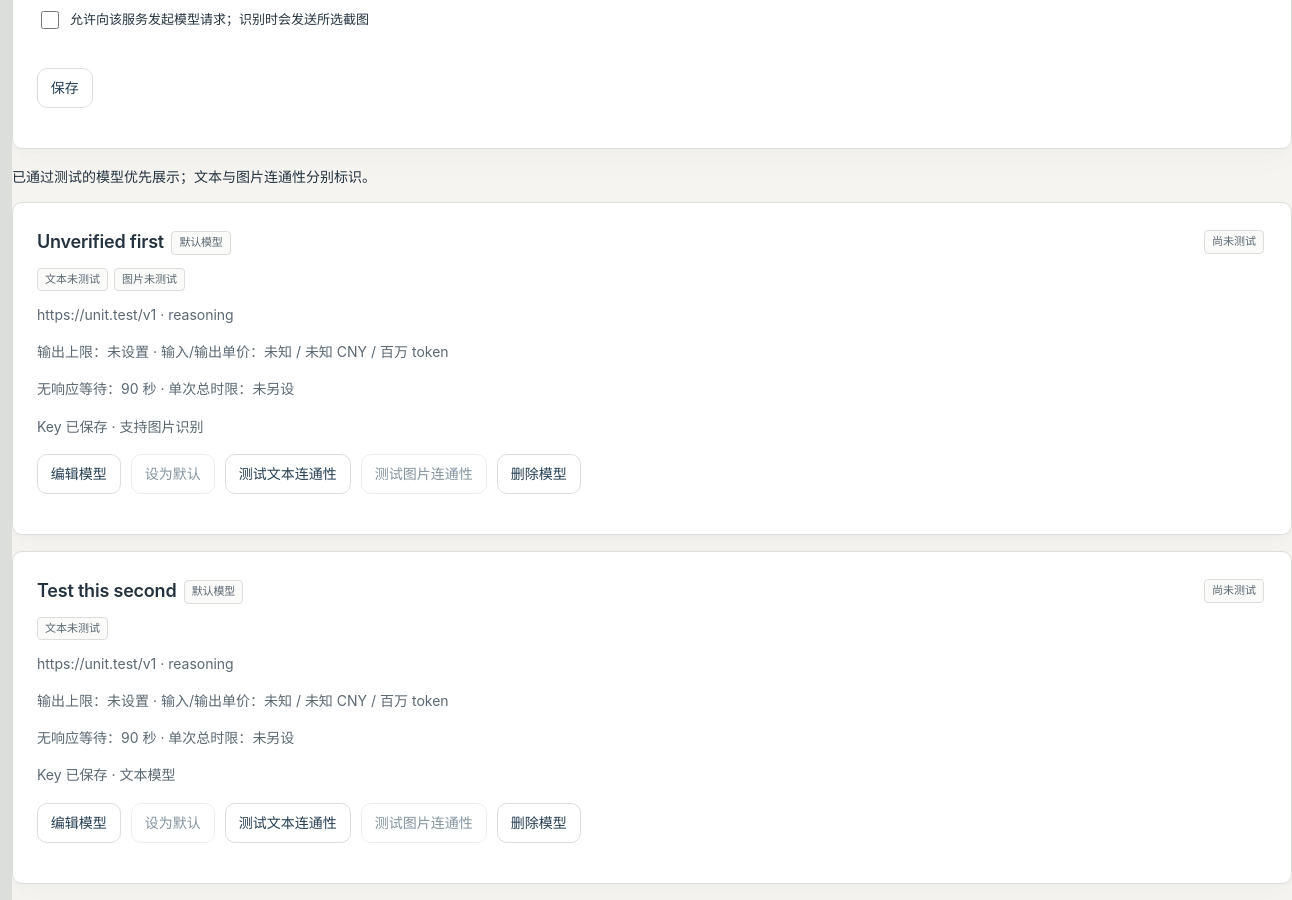
Scenario: moves a newly passed model forward and removes its pass label after a failed retest
This screenshot has width=1292, height=900.
(page scrolled)
Click the button "测试文本连通性" below "文本模型": (288, 822) left=225, top=802, right=351, bottom=842
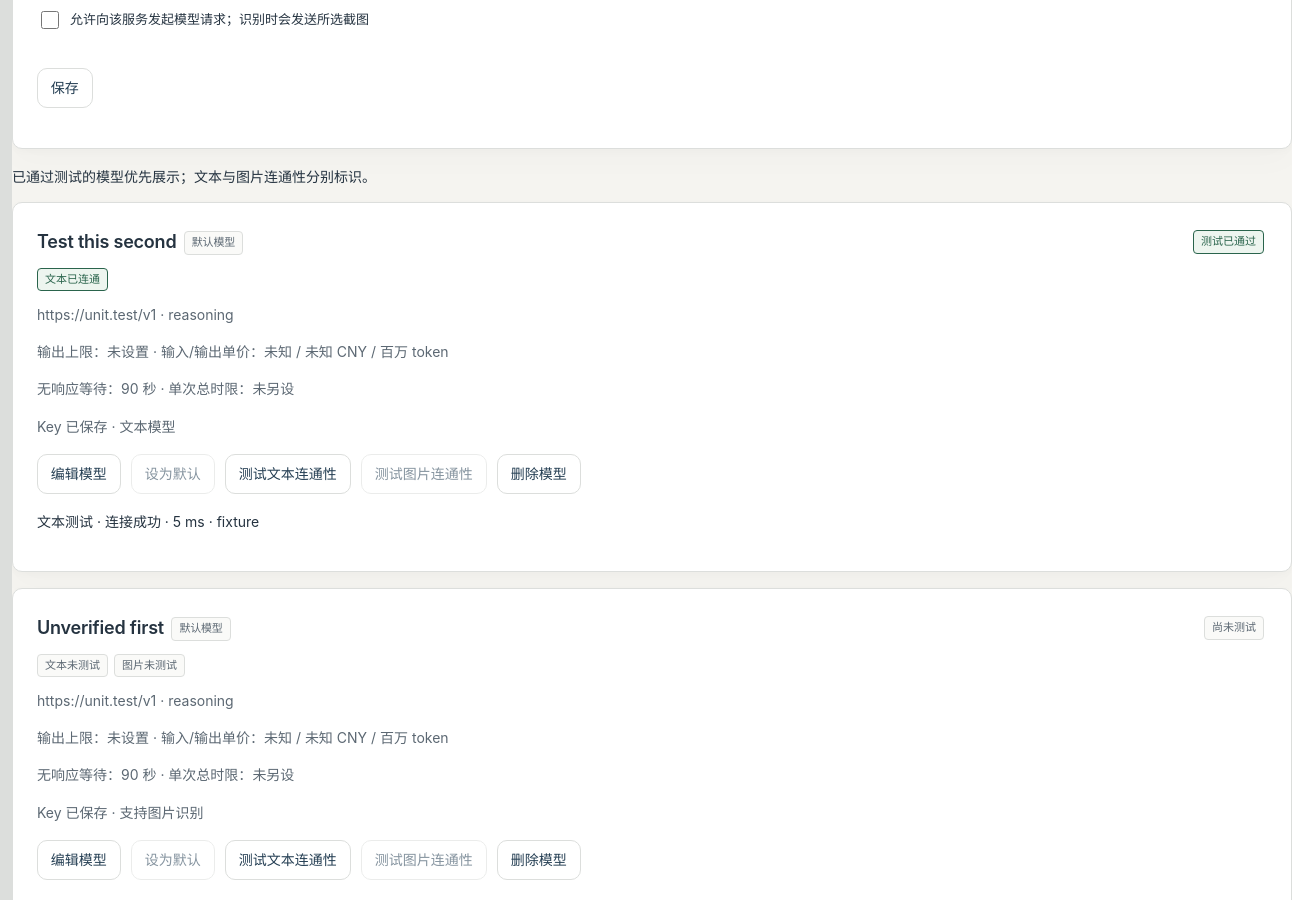
Expected: the text "文本已连通" is shown, left=37, top=268, right=108, bottom=291
Click the button "测试文本连通性" below "文本模型": (288, 474) left=225, top=454, right=351, bottom=494
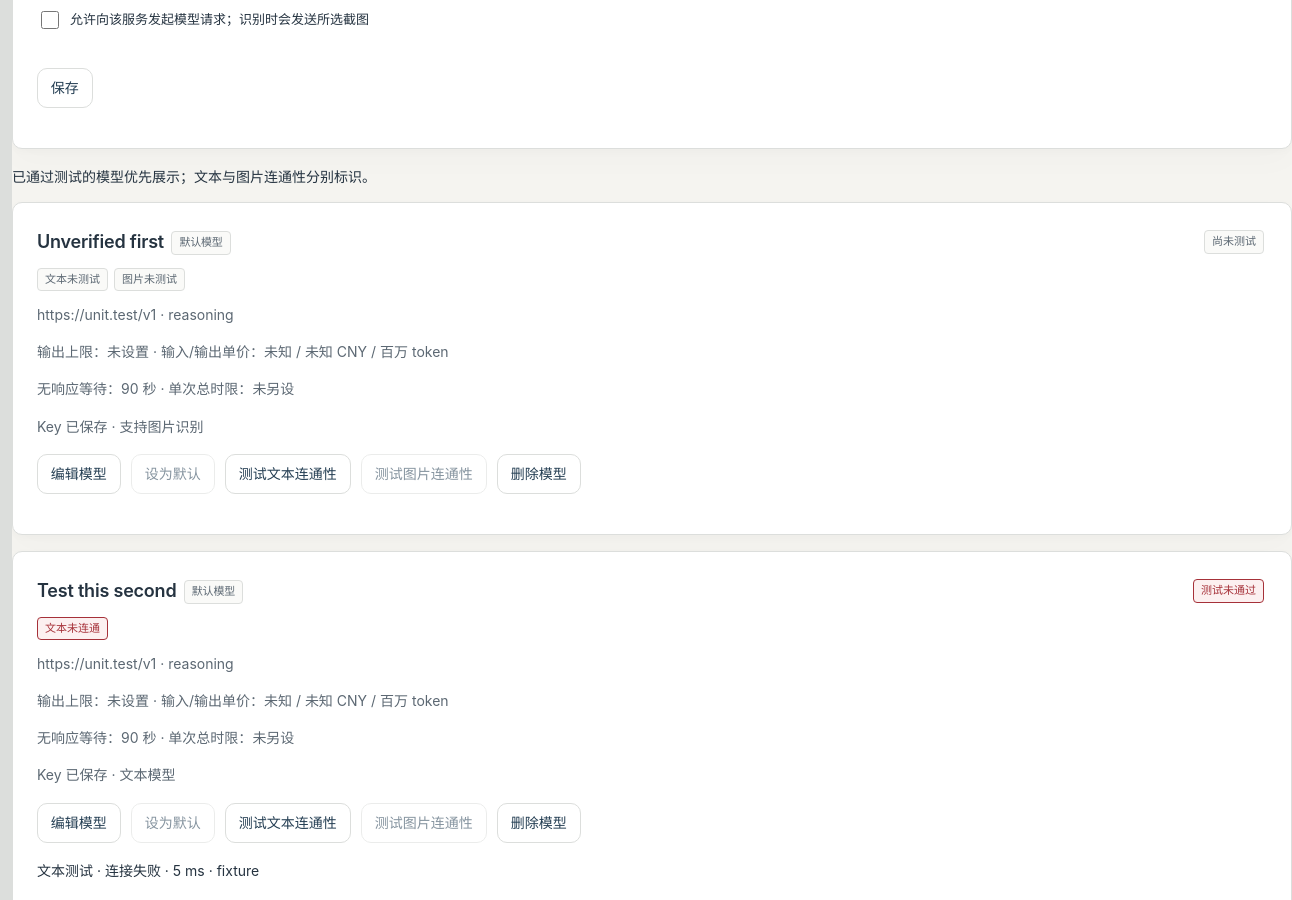
Expected: the text "文本未连通" is shown, left=37, top=616, right=108, bottom=640
Expected: the text "测试已通过" is gone
